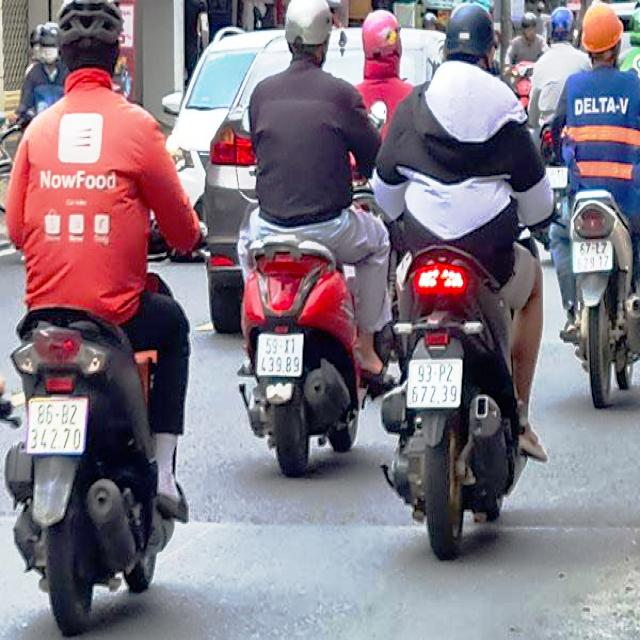license_plate: (28, 399, 89, 455), (409, 361, 462, 409), (257, 335, 306, 376), (574, 238, 615, 274)
